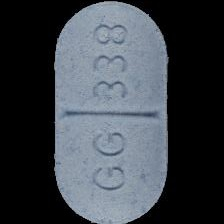68788-6353: (0, 0, 224, 224)
